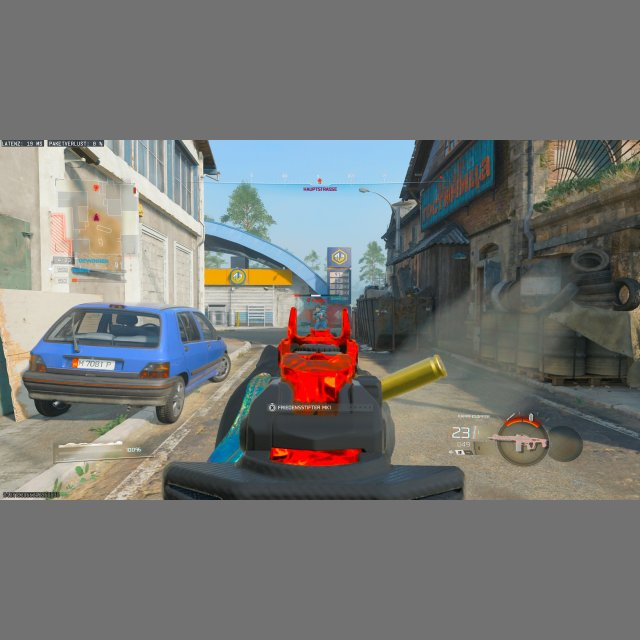player: (314, 306, 327, 329)
